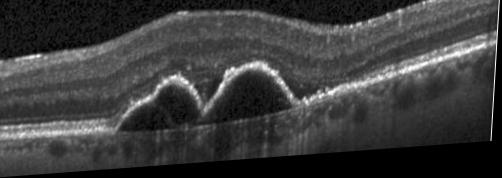neuroepithelium_detachment: (197, 78, 223, 105)
retinal_drusen: (120, 72, 295, 135)
